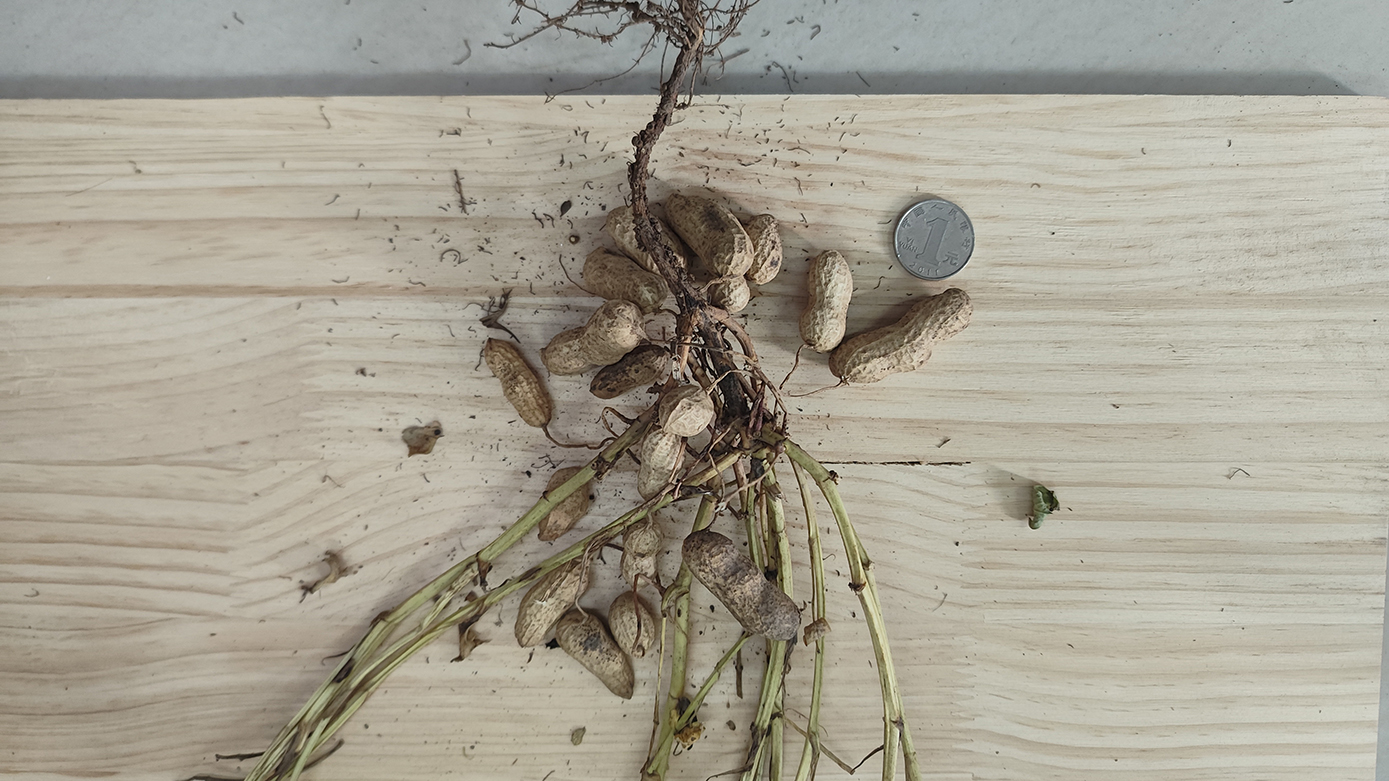h: (830, 289, 972, 383), (541, 302, 647, 374), (666, 194, 754, 278), (555, 610, 635, 702), (515, 558, 589, 647), (606, 205, 690, 281), (486, 338, 551, 429), (802, 249, 852, 355), (588, 248, 666, 309), (591, 346, 677, 398), (536, 465, 588, 543), (638, 427, 685, 503), (620, 520, 662, 590), (657, 387, 716, 436), (612, 594, 655, 659), (744, 214, 783, 284), (705, 277, 752, 314)
l: (681, 530, 802, 644)
